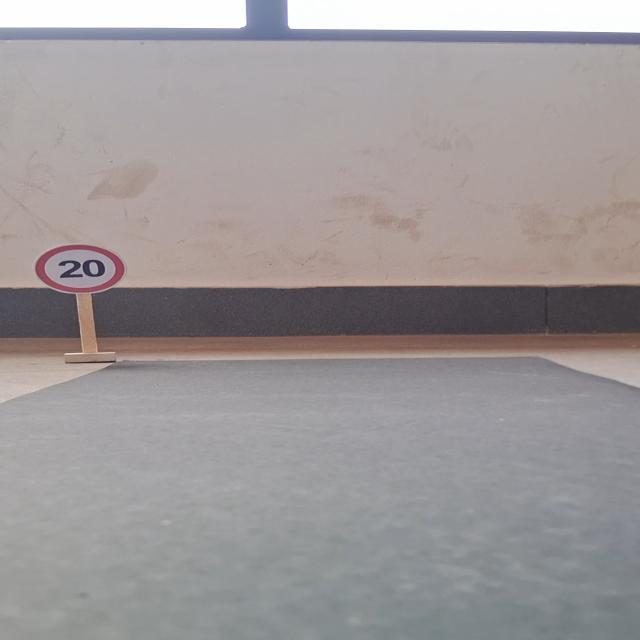Speed20: (27, 238, 136, 301)
